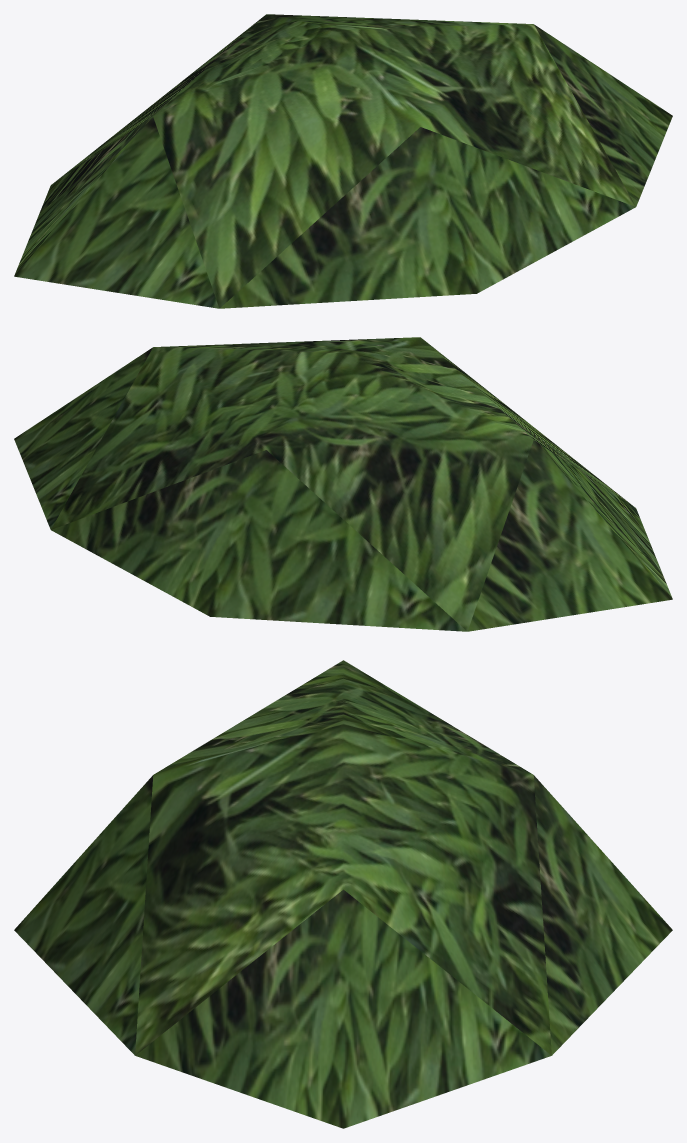
File: bushd1.FBX
3 views of the same model, one above another, from view 1: azimuth 30°, elevation 25°; view 2: azimuth 150°, elevation 25°; view 3: azimuth 270°, elevation 25° (orthographic). The views are drawn at different scales.
Parts seen in each view (by area): view 1: bushd1; view 2: bushd1; view 3: bushd1.
Part boxes in pixels (bbox=[...]): bushd1: bbox=[14, 14, 672, 308]; bushd1: bbox=[14, 337, 672, 631]; bushd1: bbox=[14, 660, 672, 1128].
Bounding box in the file's own units: 99.28 × 23.86 × 69.6.
